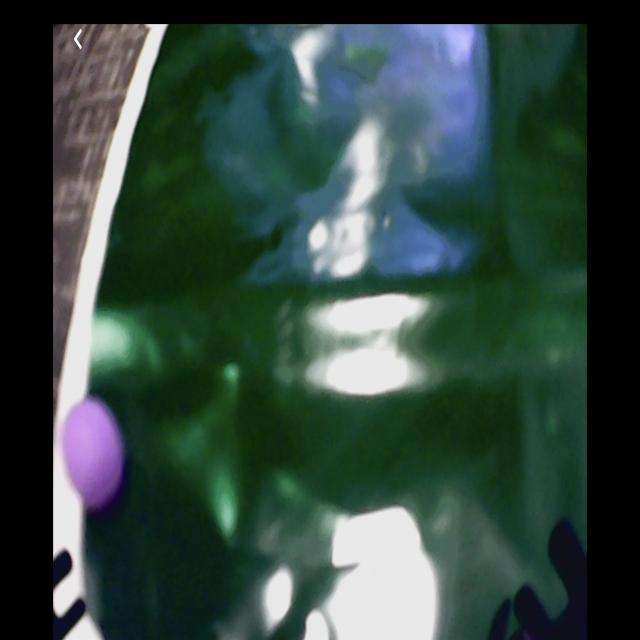ball: (62, 399, 123, 502)
